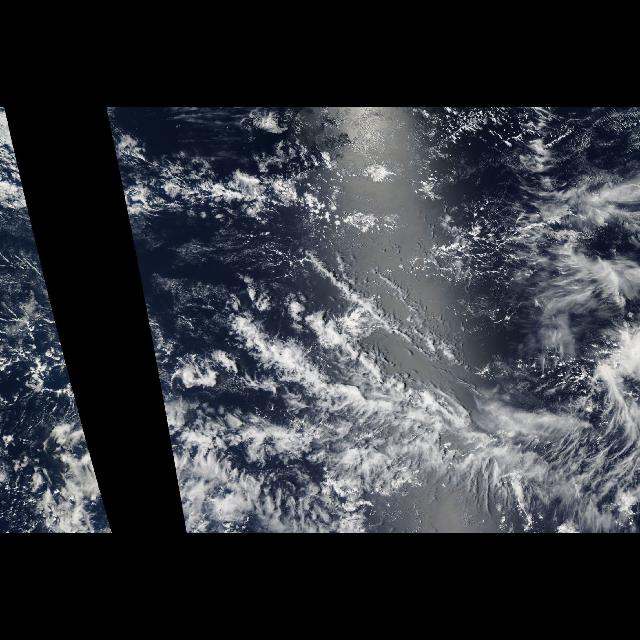Fish: (219, 276, 456, 418), (110, 138, 406, 235)
